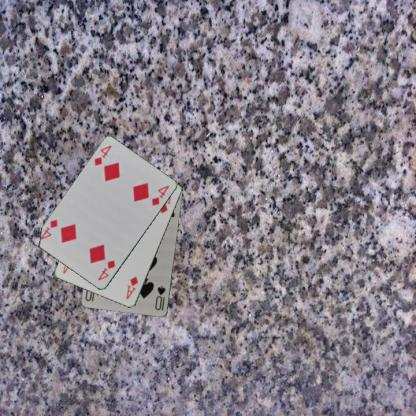10s: (153, 283, 167, 312)
4d: (92, 142, 113, 168), (95, 258, 116, 282)
Ad: (124, 274, 140, 300)
